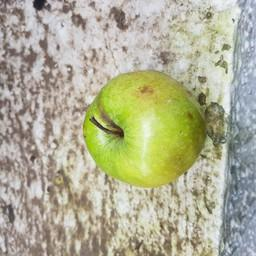Bad_apple: (80, 68, 204, 190)
